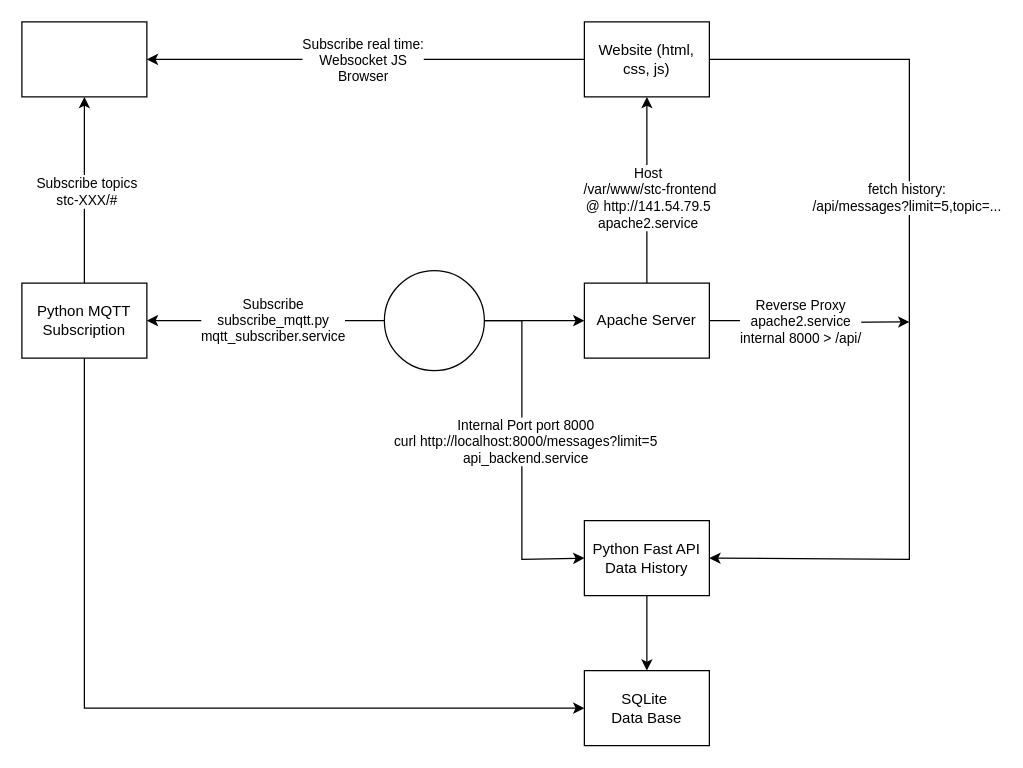
Some shapes in this 1023 by 768 pixel diagram are drawn without their labels. The centre of each missing label's shape, as x and y in pixels:
Hive MQ: [84,59]
Linux Server: [433,320]
